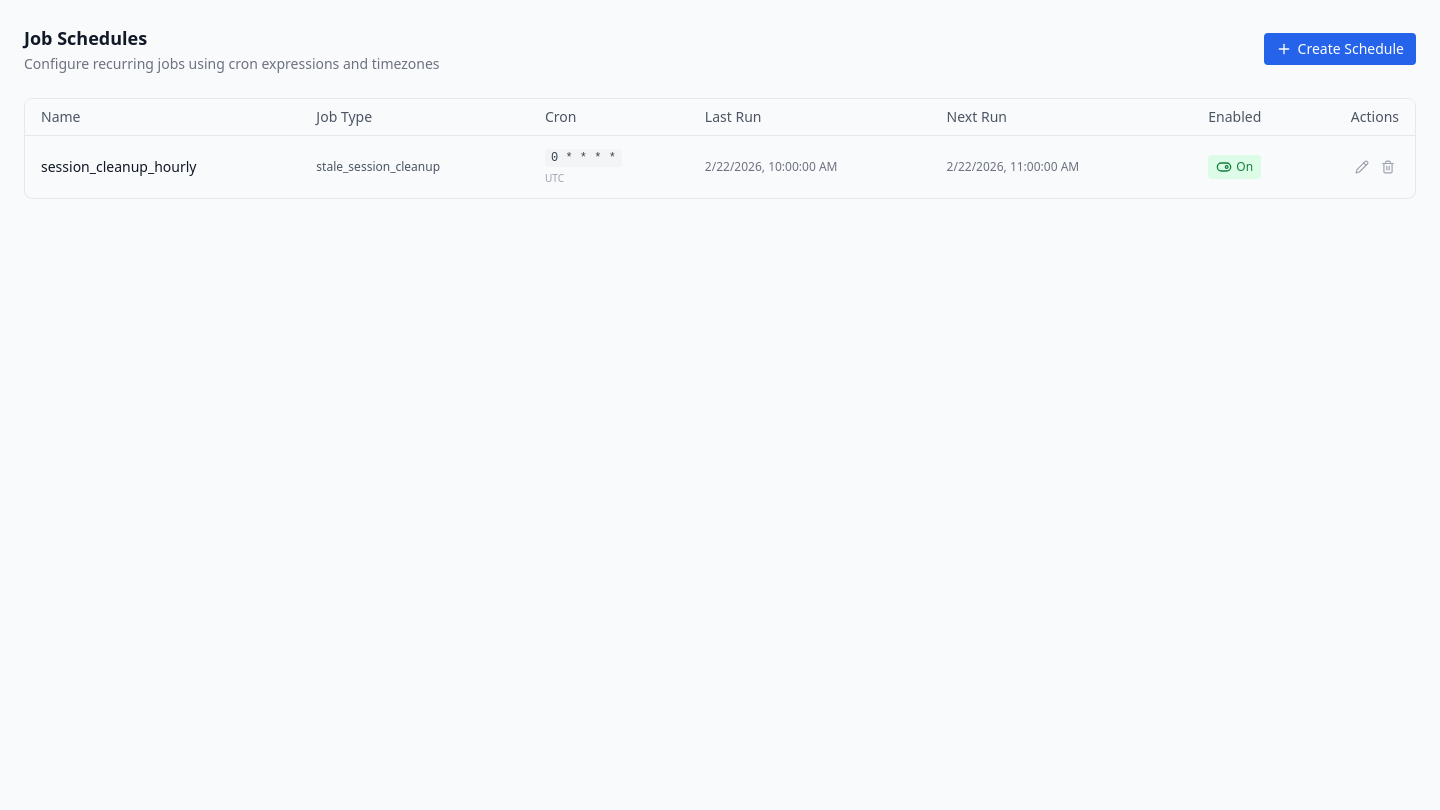
Scenario: Schedules › shows cron validation error in create modal
This screenshot has width=1440, height=810.
Click the button "Create Schedule". click: (1340,49)
box: [1264, 33, 1416, 65]
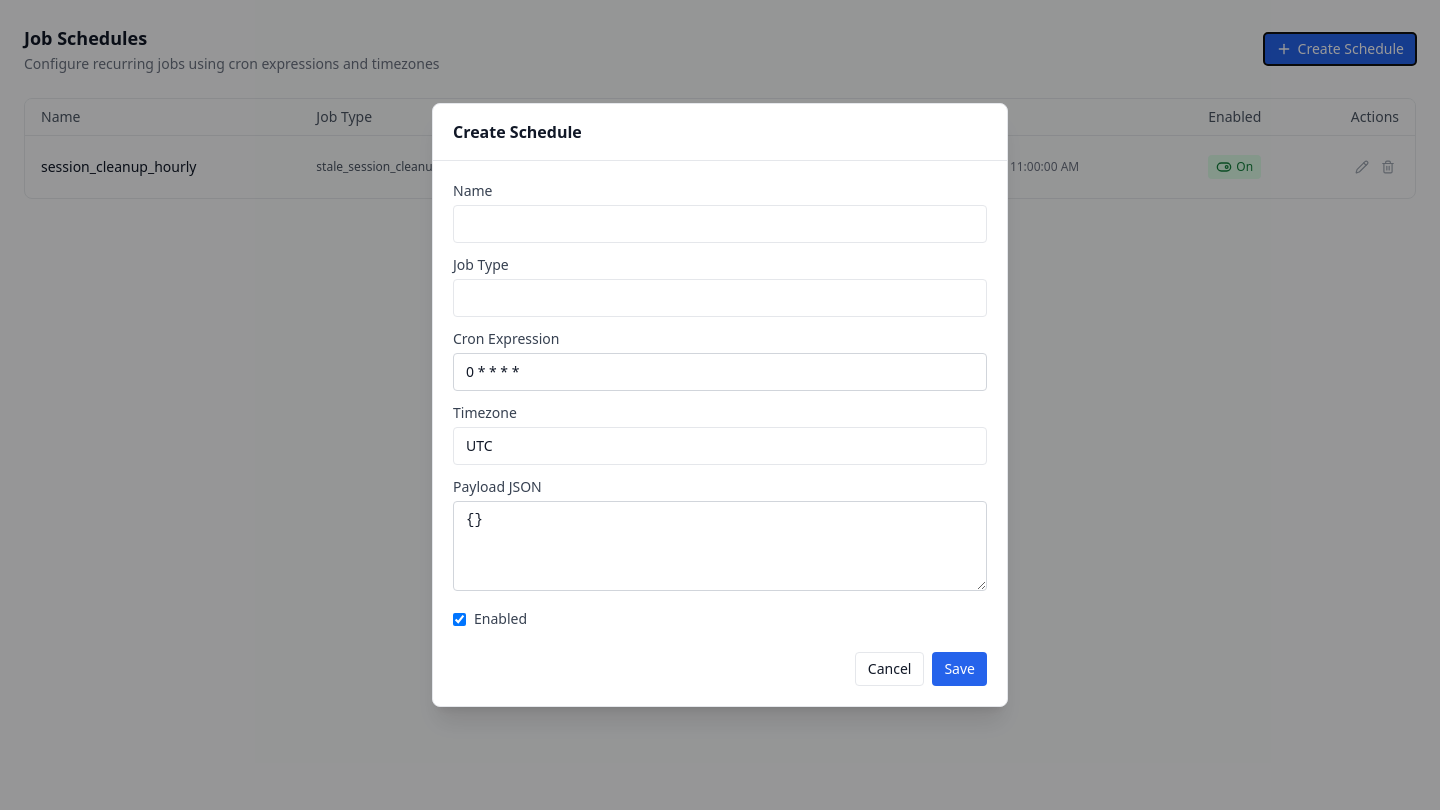
Type "nightly_job" into the field labelled "Name". click: (720,224)
box: [453, 205, 987, 243]
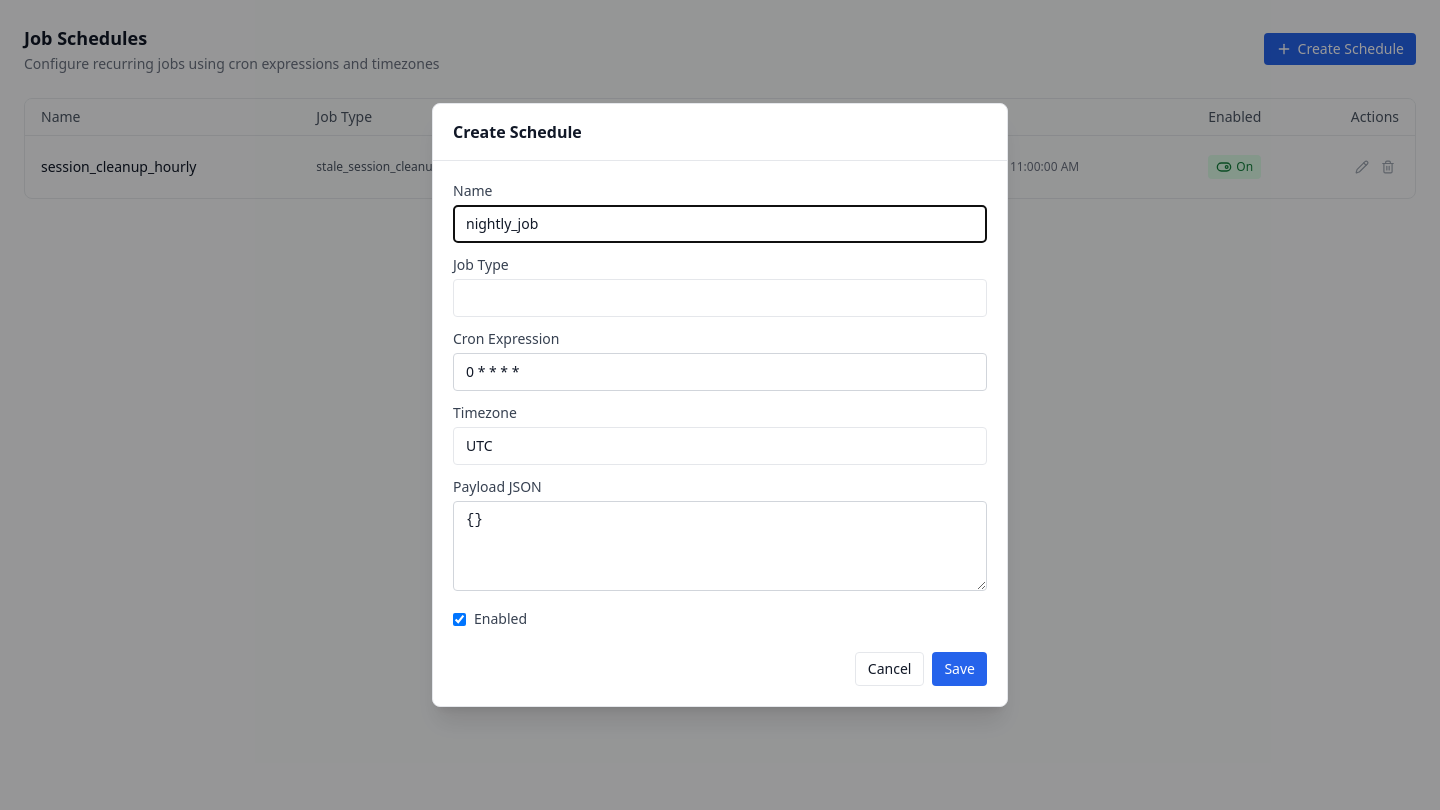
Type "expired_auth_cleanup" into the field labelled "Job Type". click: (720,298)
box: [453, 279, 987, 317]
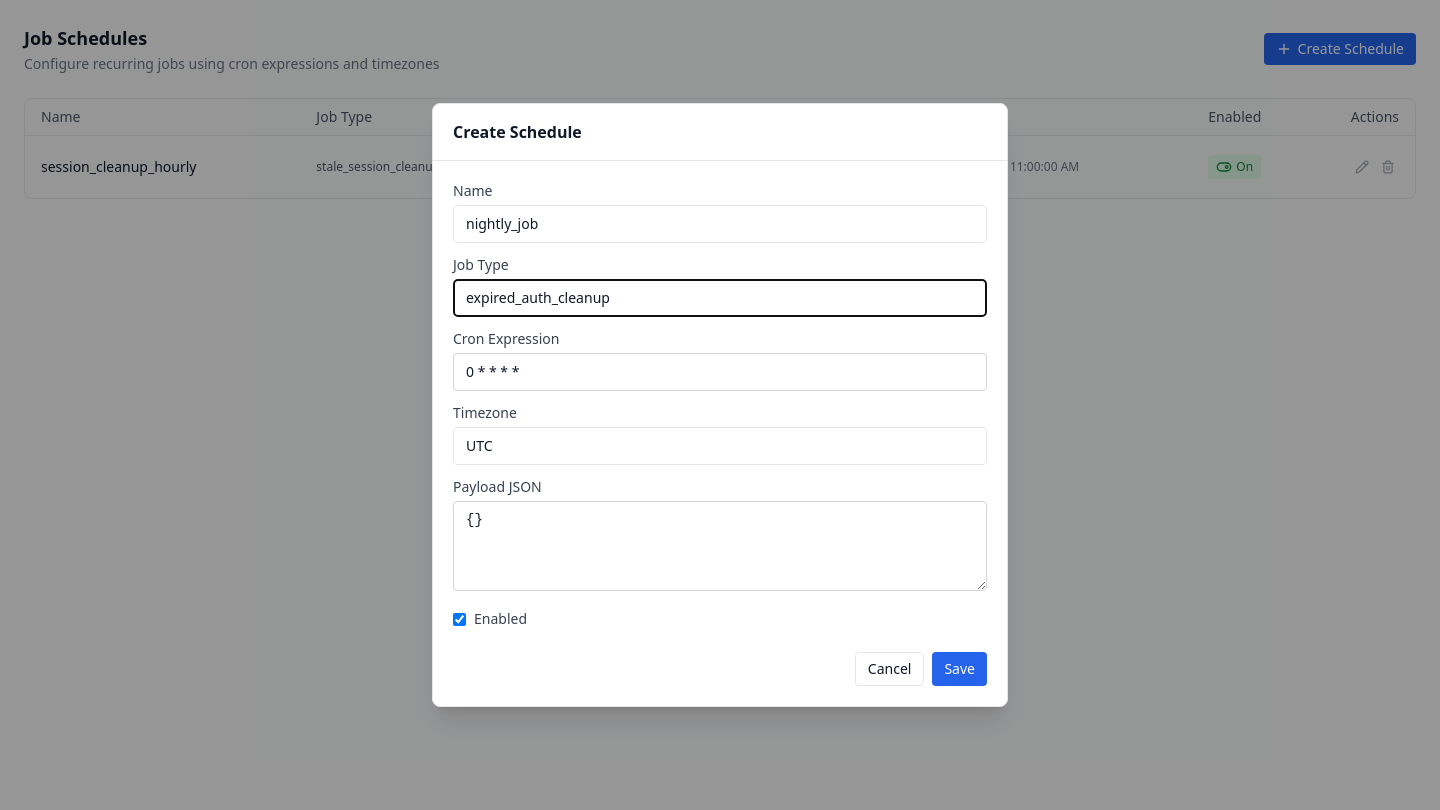
Replace the text in the field labelled "Cron Expression" with "invalid". click: (720,372)
box: [453, 353, 987, 391]
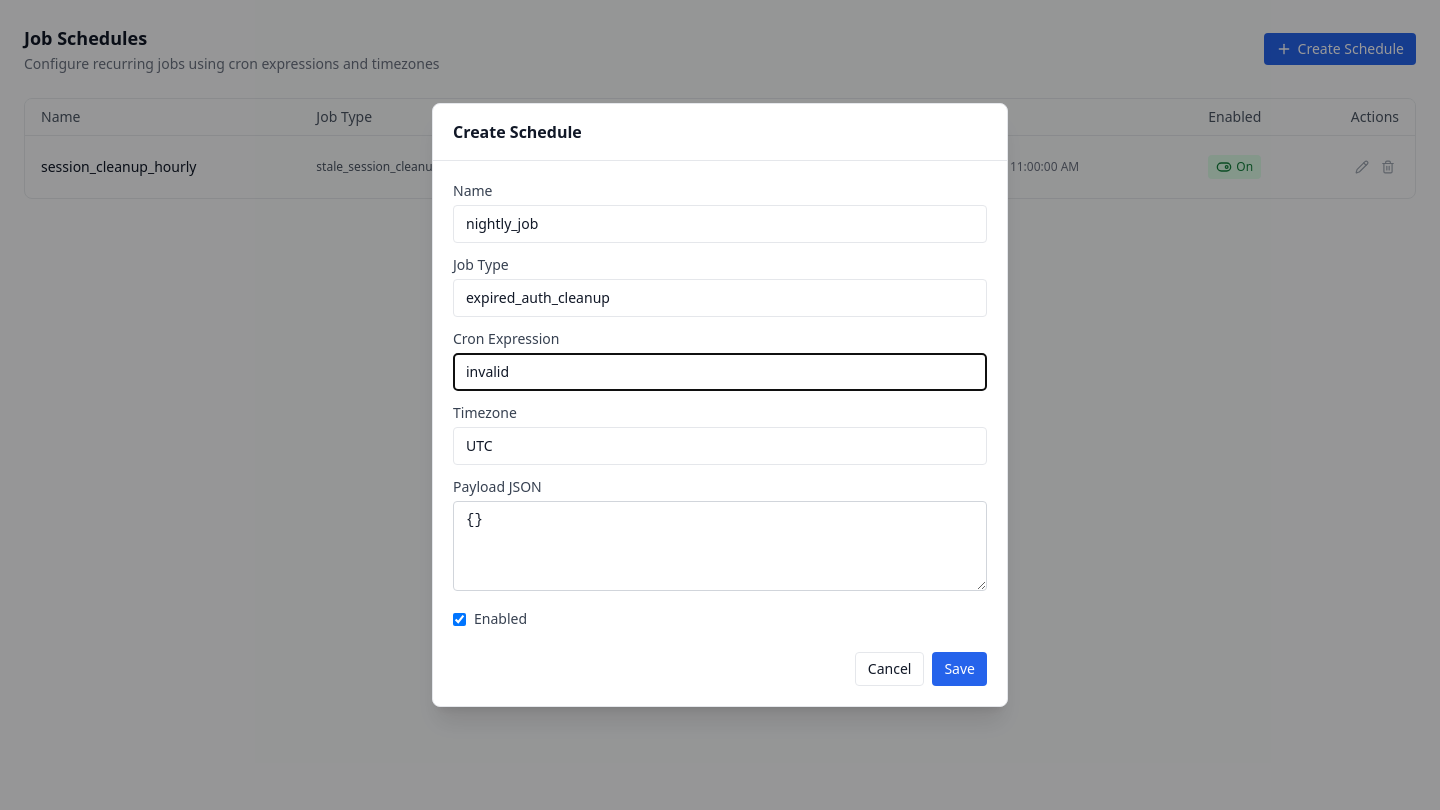
Click the button "Save". click: (960,669)
box: [932, 652, 987, 686]
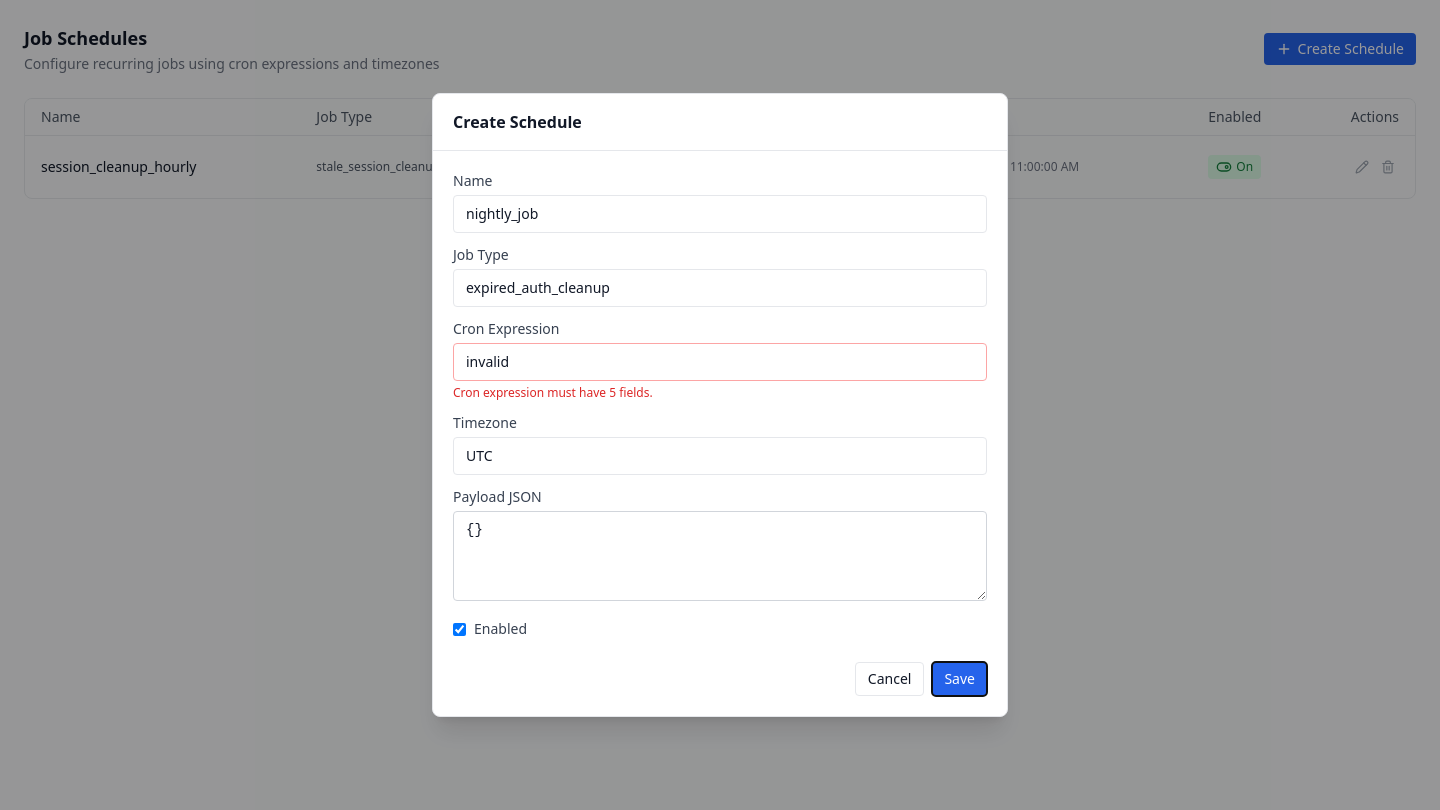
Now the text "Cron expression must have 5 fields." is shown, box [453, 384, 653, 401]
